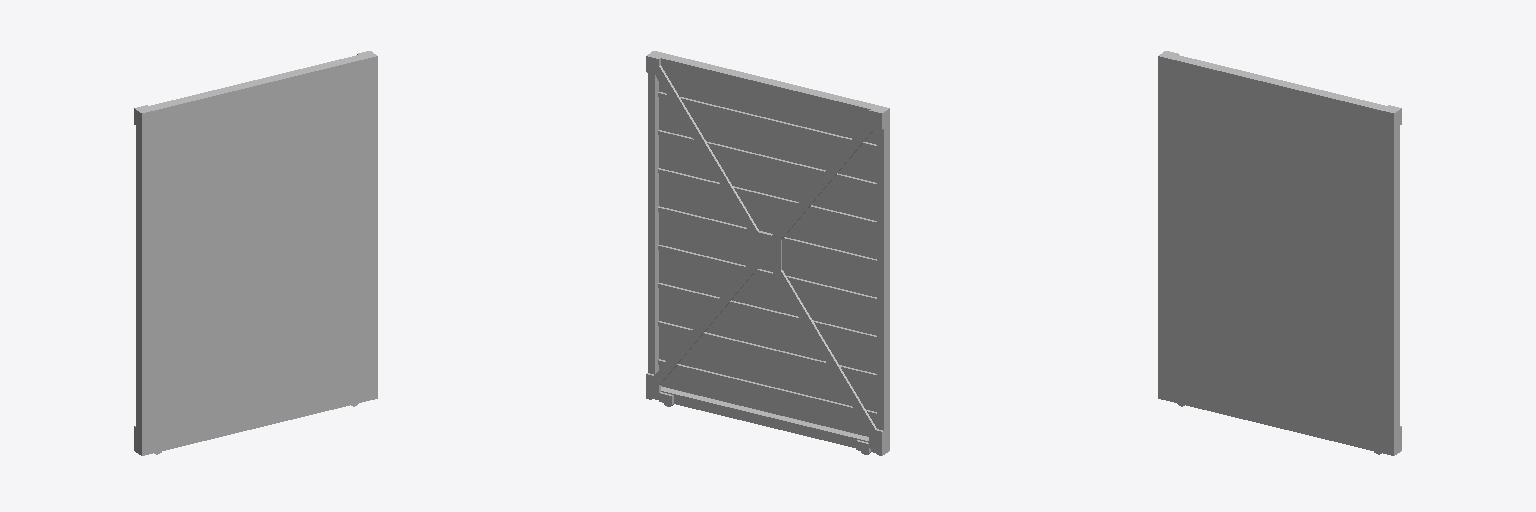
File: f_door_r3.obj
3 views of the same model, side by side, from view 1: azimuth 30°, elevation 25°; view 2: azimuth 150°, elevation 25°; view 3: azimuth 330°, elevation 25° (orthographic).
Size of the model in its own units: 1067 by 1502 by 58.95.